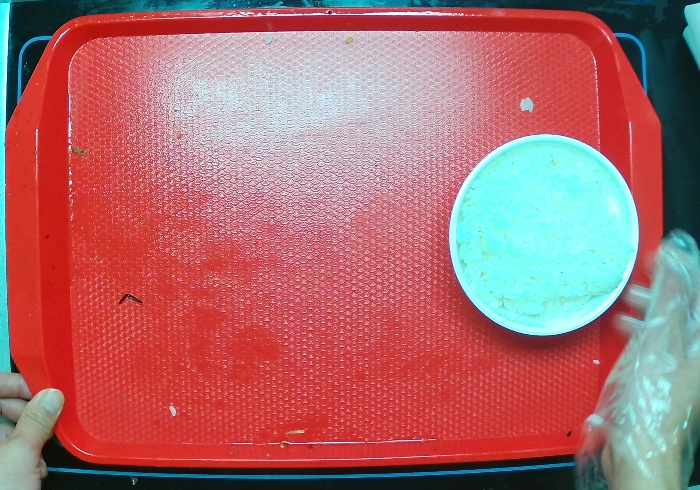YKMZ-Fan_Wan: (442, 121, 651, 345)
